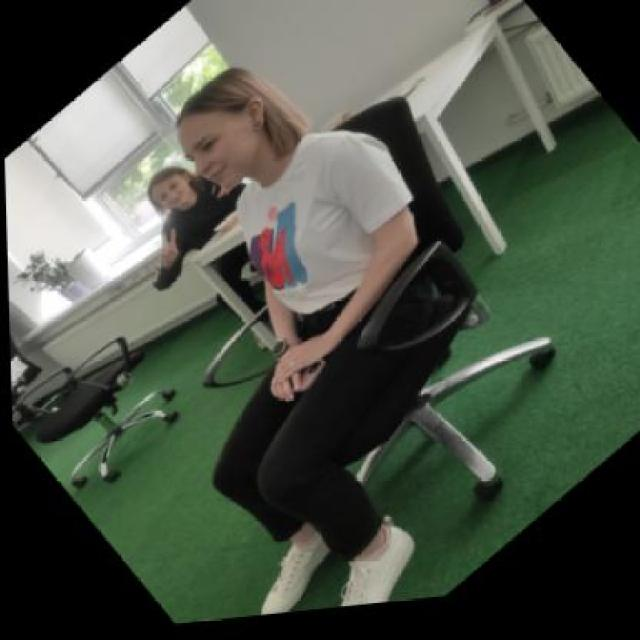chair: (122, 52, 640, 614), (8, 303, 203, 522)
